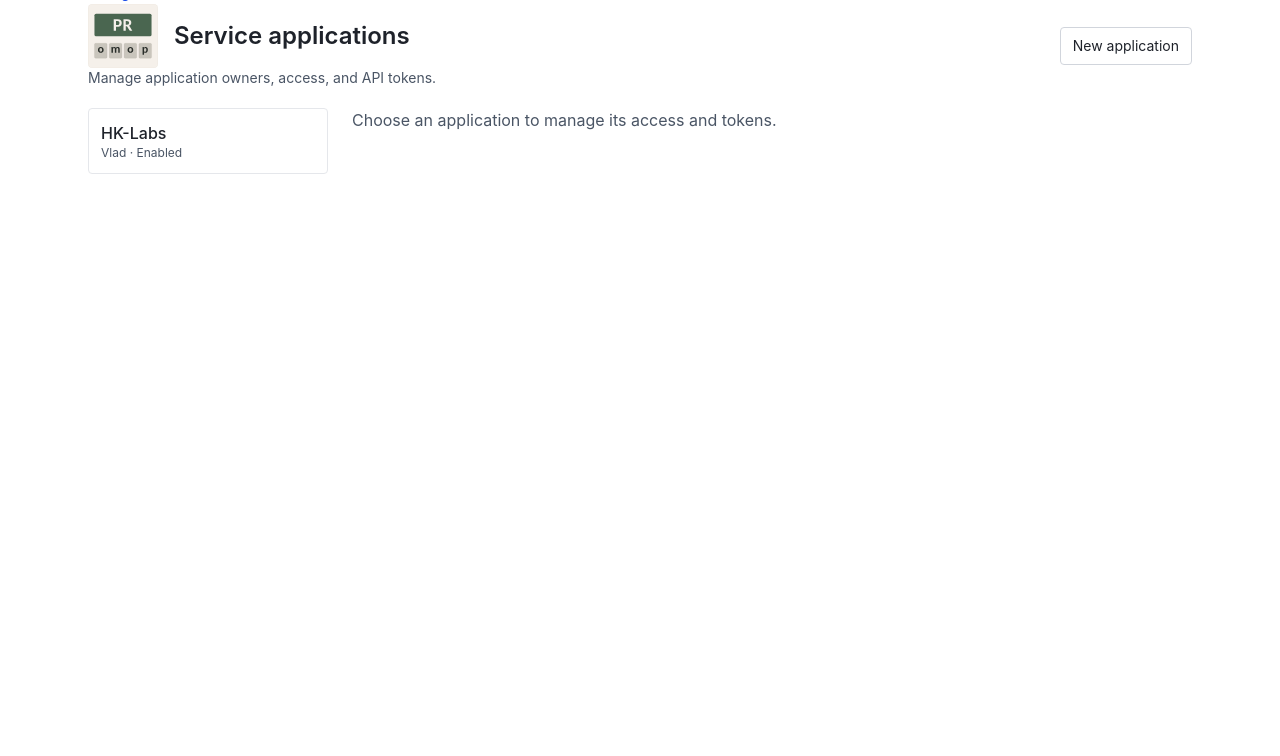
Service applications › shows a disabled-application refusal too
Click the button "HK-Labs Vlad · Enabled" at (208, 141), box left=88, top=108, right=328, bottom=174
(page scrolled)
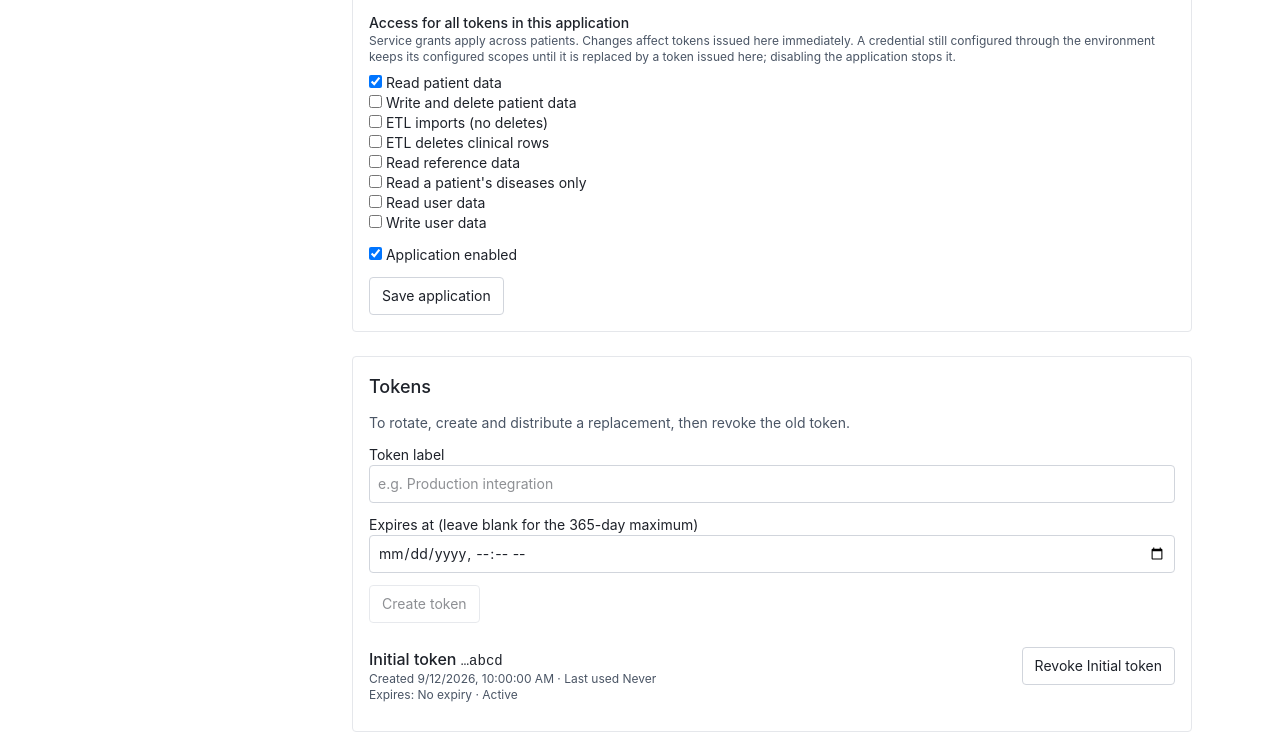
Type "Attempt" into the field labelled "Token label" at (772, 484), box left=369, top=465, right=1175, bottom=503
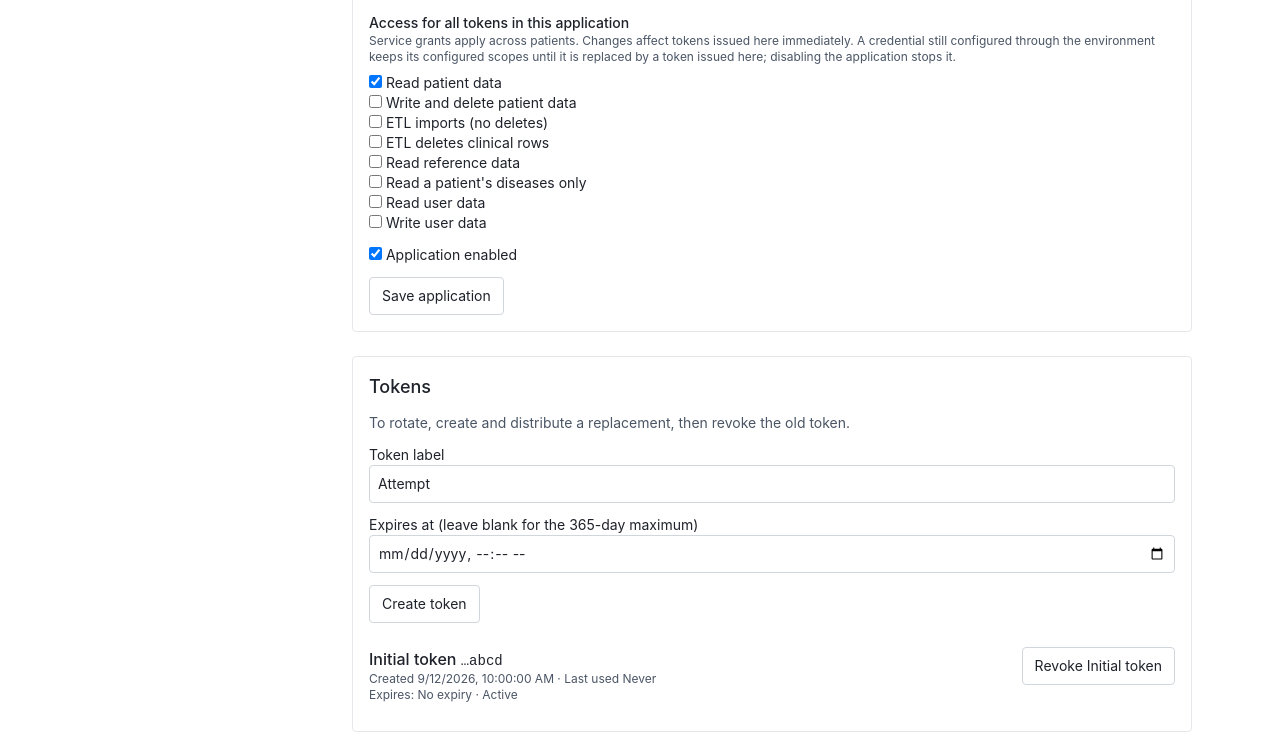
Click the button "Create token" at (424, 604), box left=369, top=585, right=480, bottom=623
(page scrolled)
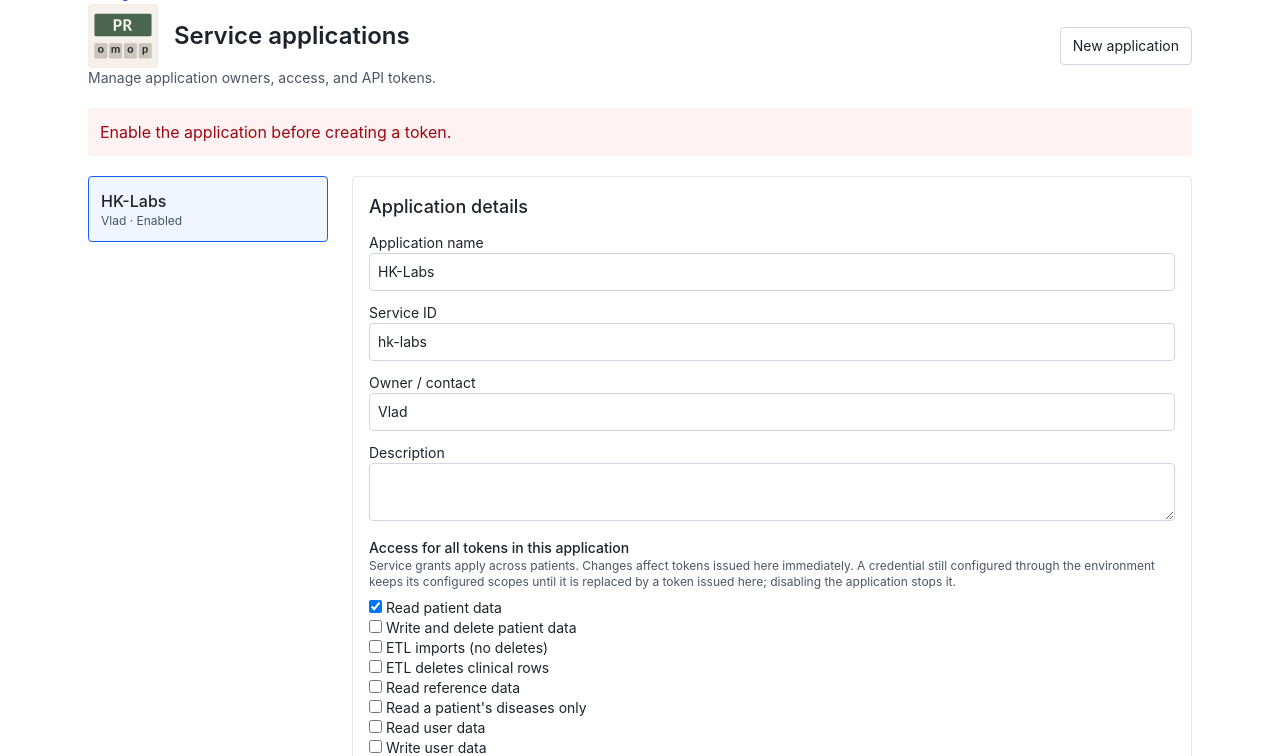
Check: the text "Enable the application before creating a token." is shown, box left=88, top=108, right=1192, bottom=156
